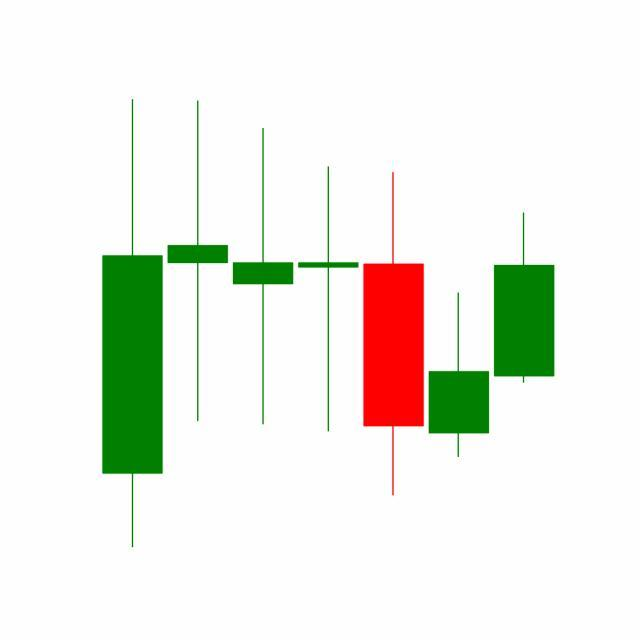Hikkake Pattern: (229, 124, 555, 501)
